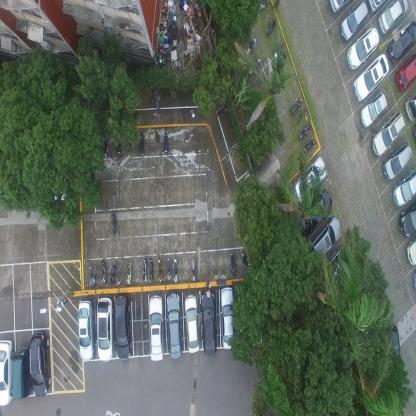car: (352, 52, 389, 102), (298, 188, 332, 240), (292, 154, 328, 203), (309, 214, 342, 263), (372, 110, 405, 158), (346, 24, 379, 72), (322, 239, 354, 288), (30, 330, 50, 398), (382, 141, 414, 181), (113, 294, 132, 361), (382, 321, 402, 382), (339, 0, 368, 42), (388, 20, 416, 62), (200, 290, 217, 357), (97, 297, 114, 363), (148, 293, 164, 362), (166, 292, 182, 360), (359, 90, 387, 128), (77, 300, 94, 362), (12, 343, 30, 401), (378, 0, 408, 34), (392, 164, 415, 207), (219, 286, 234, 351), (184, 294, 200, 353), (394, 50, 416, 91), (0, 338, 13, 407), (399, 200, 415, 238), (326, 0, 352, 15), (404, 91, 416, 123), (366, 0, 393, 14), (406, 235, 415, 269)
